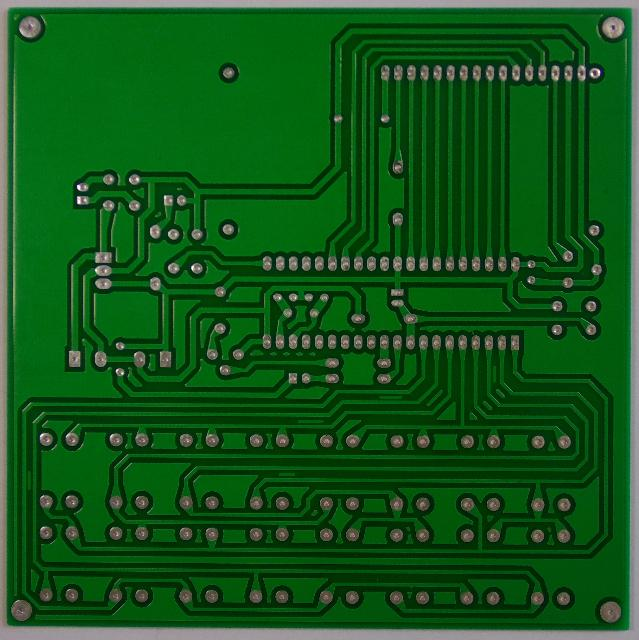spurious_copper: (21, 466, 35, 494), (296, 417, 324, 428), (378, 392, 404, 403), (274, 470, 298, 480), (489, 362, 499, 383)
